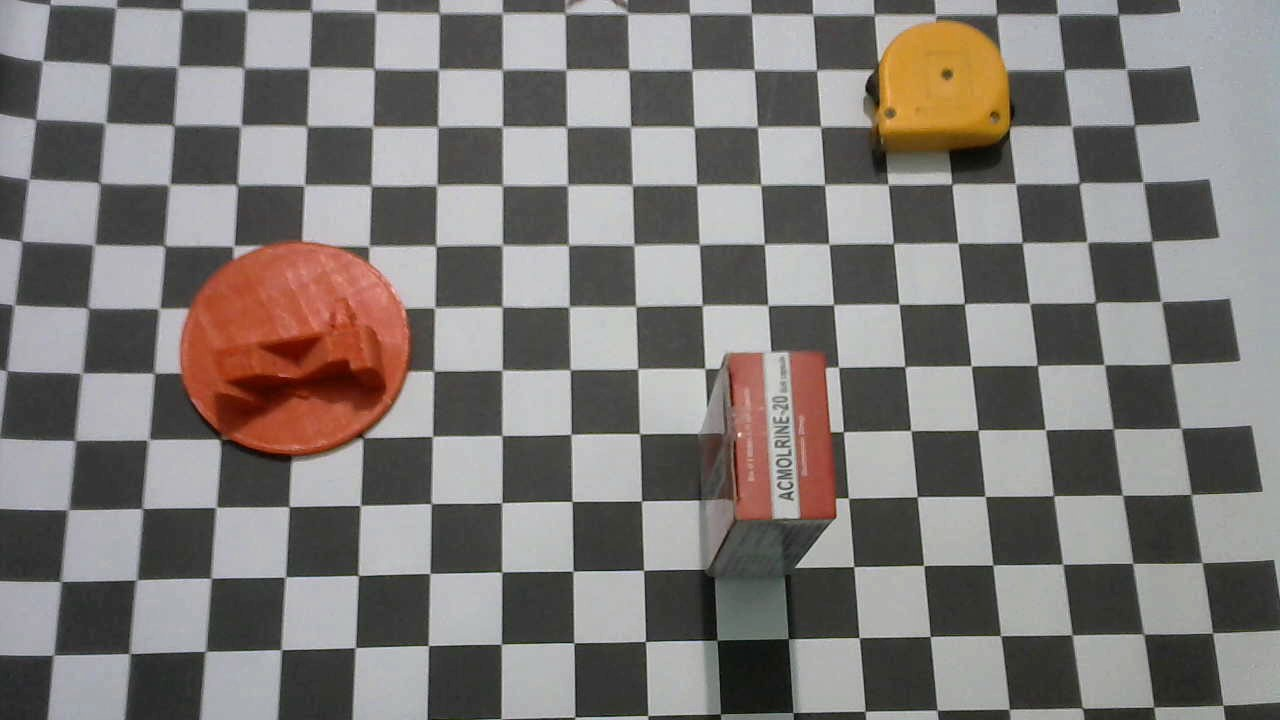blue: (864, 18, 1014, 155)
green: (180, 241, 415, 461)
red: (700, 349, 837, 577)
